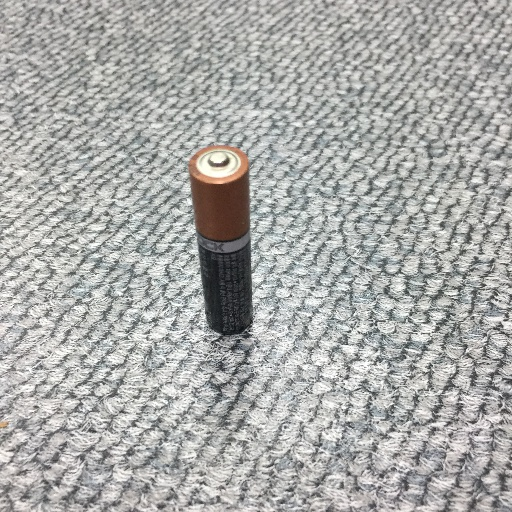Battery_0: (178, 138, 268, 345)
